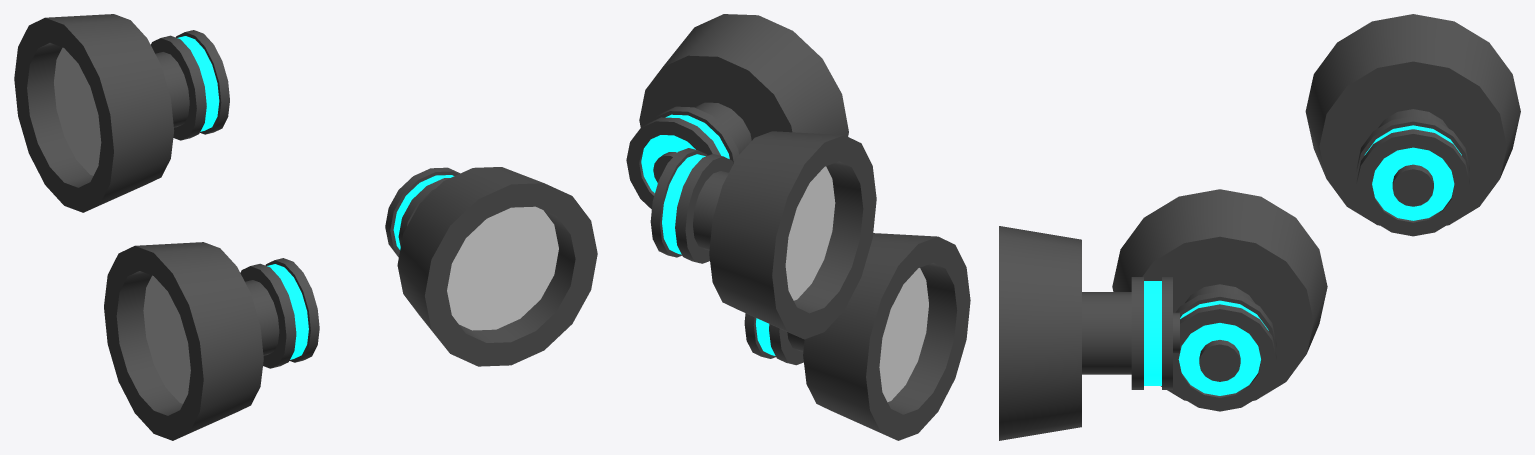
The model's file is Engines_01.fbx.
3 renders of one model, left to right at view 1: azimuth 30°, elevation 25°; view 2: azimuth 150°, elevation 25°; view 3: azimuth 270°, elevation 25°, orthographic. The views are drawn at different scales.
Visible parts, largest first — view 1: EngineBack, EngineSide; view 2: EngineBack, EngineSide; view 3: EngineBack, EngineSide.
Part boxes in pixels (bbox=[...]): EngineBack: bbox=[14, 14, 319, 440]; EngineSide: bbox=[385, 167, 597, 366]; EngineBack: bbox=[650, 131, 970, 440]; EngineSide: bbox=[626, 14, 848, 209]; EngineBack: bbox=[1112, 14, 1520, 411]; EngineSide: bbox=[999, 226, 1179, 440].
Bounding box in the file's own units: 308 × 296 × 378.
